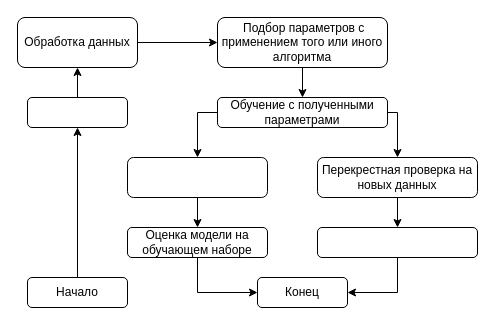
Some shapes in this 495 by 325 pixel diagram are drawn without their labels. The shapes that lost their labels are listed below. From the top down, each one's centre as x and y in pixels, then its label:
the point at 77,112: Получение данных
the point at 197,177: Перекрестная проверка на обучающих данных
the point at 397,242: Оценка модели на новых данных
